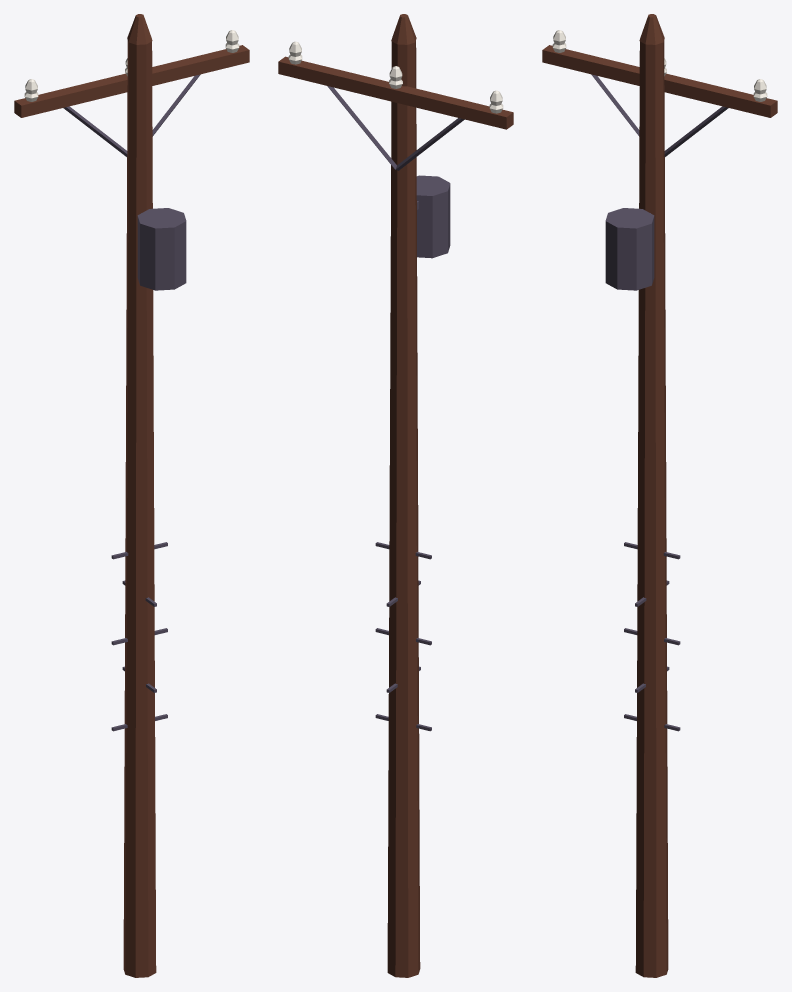
File: power_pole.glb
3 views of the same model, side by side, from view 1: azimuth 30°, elevation 25°; view 2: azimuth 150°, elevation 25°; view 3: azimuth 330°, elevation 25° (orthographic).
Parts seen in each view (by area): view 1: power_pole; view 2: power_pole; view 3: power_pole.
Boxes of the visible parts, box(x1,y1,x2,y2) form: power_pole: box(14, 14, 249, 977); power_pole: box(278, 14, 513, 977); power_pole: box(542, 14, 777, 977).
Size of the model in its own units: 2.5 by 10 by 0.96.
